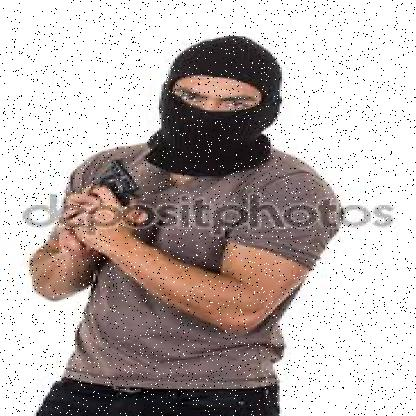pistol: (95, 160, 140, 198)
